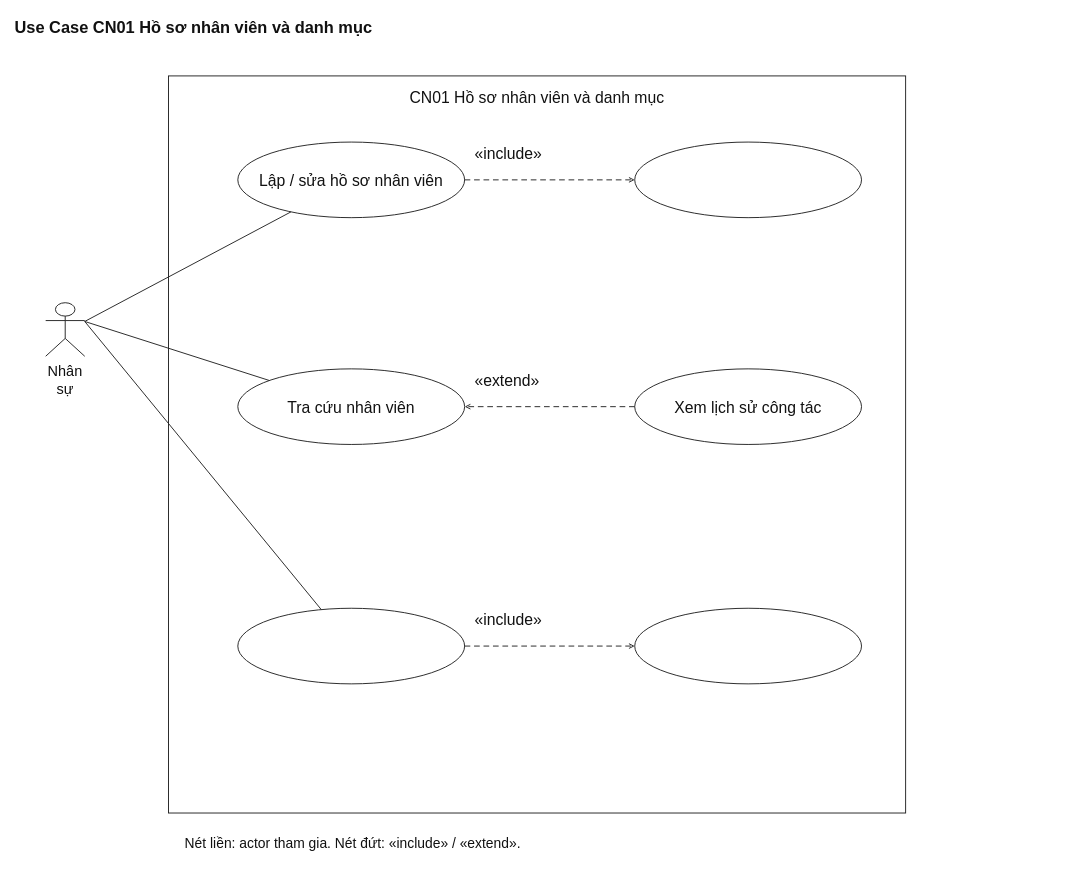
Image size: 1067x874. Some labels were removed from this diagram. The centre of each missing label's shape, as x and y in pixels:
"Kiểm tra thông tin bắt buộc" goes at point (748, 179).
"Kiểm tra trùng tên / tham chiếu" goes at point (748, 646).
"Quản lý danh mục hỗ trợ" goes at point (351, 646).
